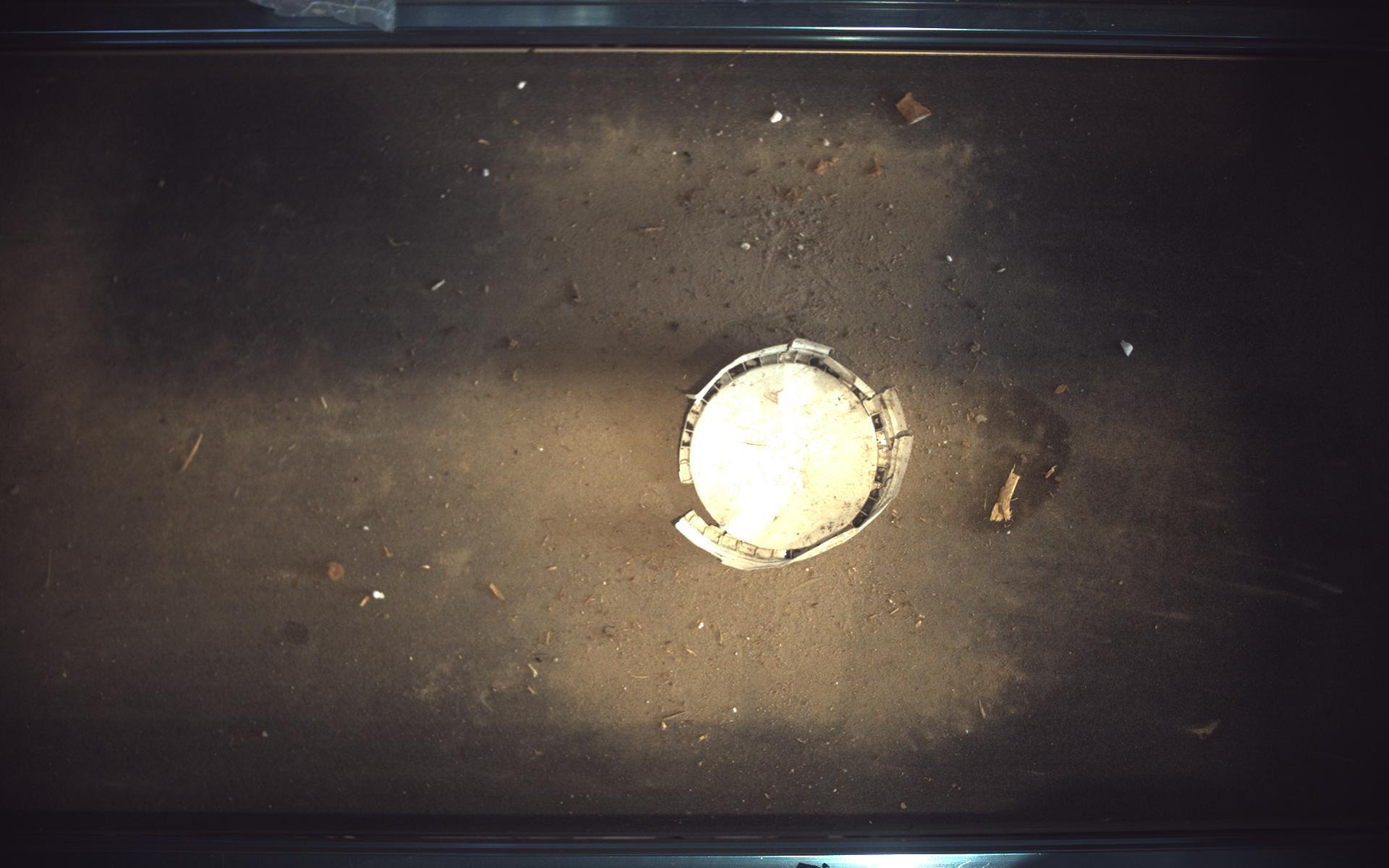plastic: (677, 339, 915, 570)
